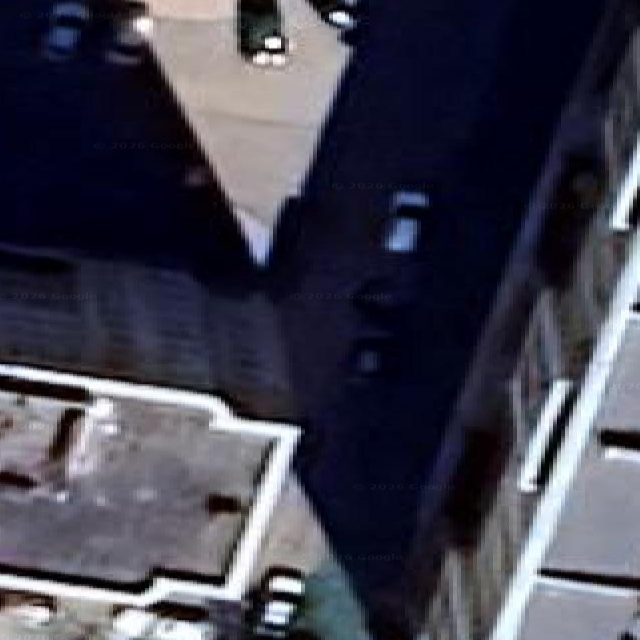car: (248, 567, 304, 639), (237, 0, 287, 66), (383, 190, 431, 253), (105, 0, 151, 65), (43, 2, 90, 59), (309, 0, 358, 29)
